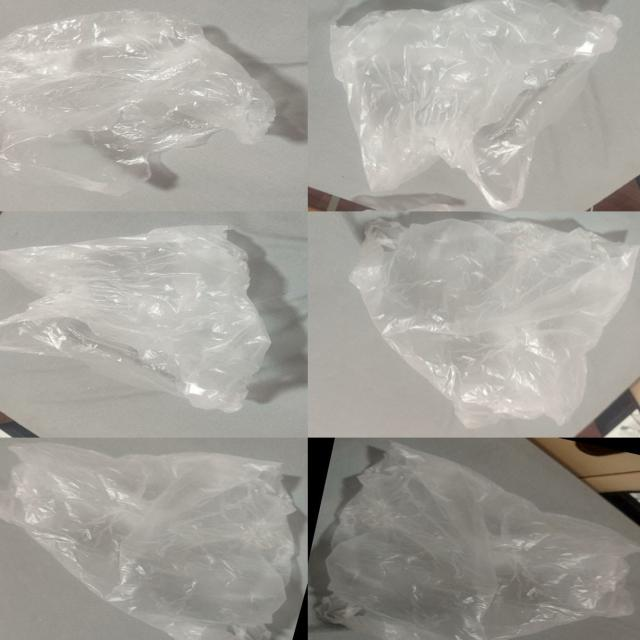plastik: (317, 444, 639, 640), (330, 0, 621, 211), (350, 218, 638, 428), (0, 443, 296, 640), (0, 10, 276, 196), (0, 226, 270, 412)
